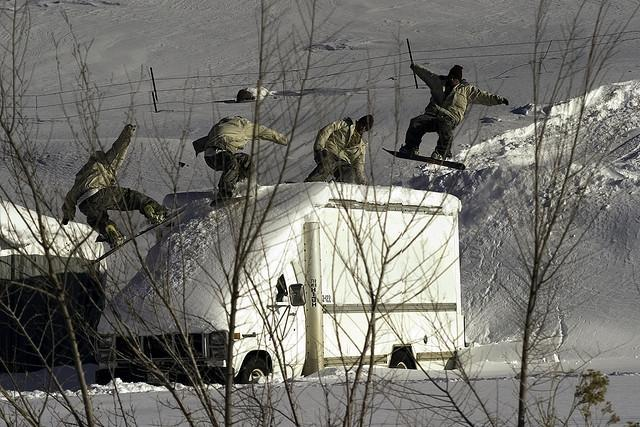truck: (92, 180, 464, 386)
